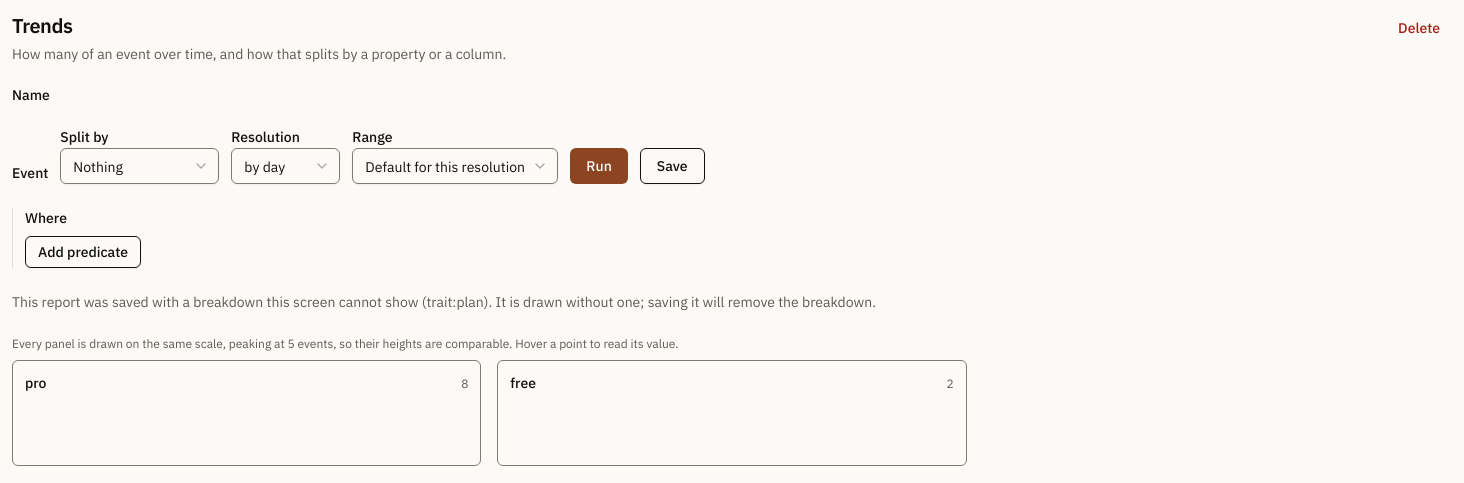
Test case: Trends -- saving and reopening a saved report › clears the dropped-breakdown notice once the operator picks a new split
Check: the text with test id "trend-breakdown-dropped" is shown, box [12,293,876,311]
Select "An event column" in the dropdown labelled "Split by" at (140, 166), box [60,148,219,184]
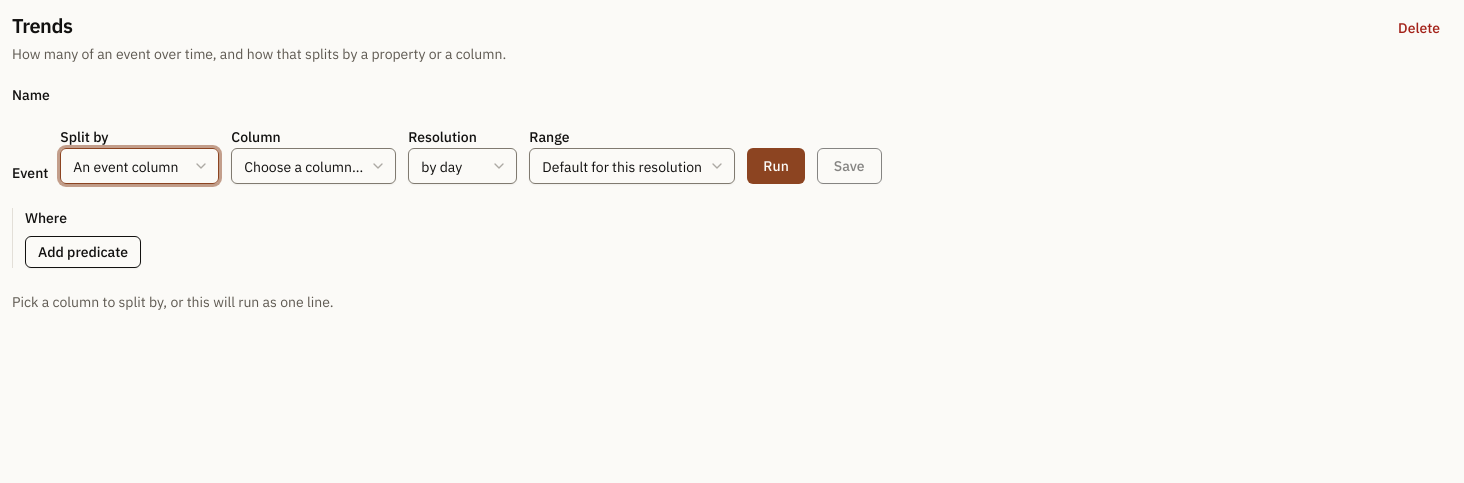
Check: the text with test id "trend-breakdown-dropped" is gone
